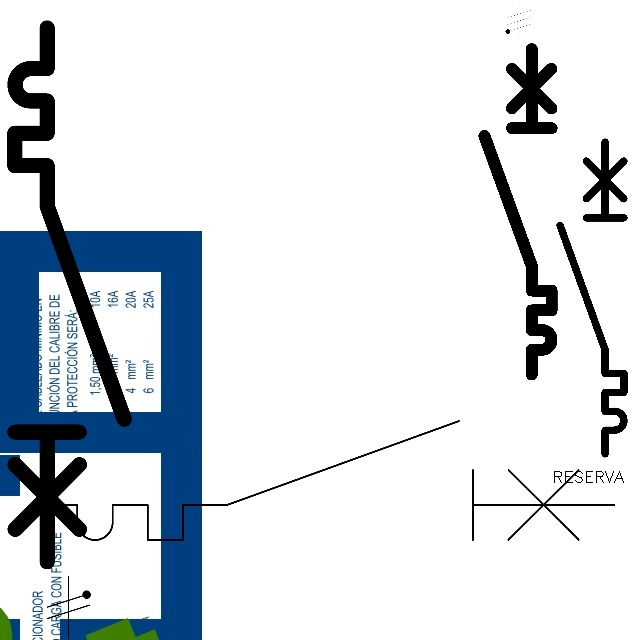interruptor_termomagnetico: (18, 406, 629, 555), (1, 14, 138, 575), (476, 40, 560, 382), (552, 134, 632, 462)
